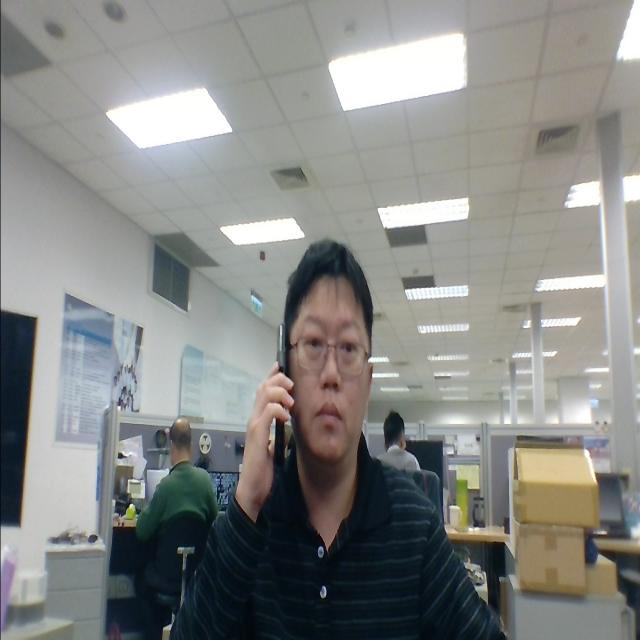phone: (253, 310, 304, 486)
